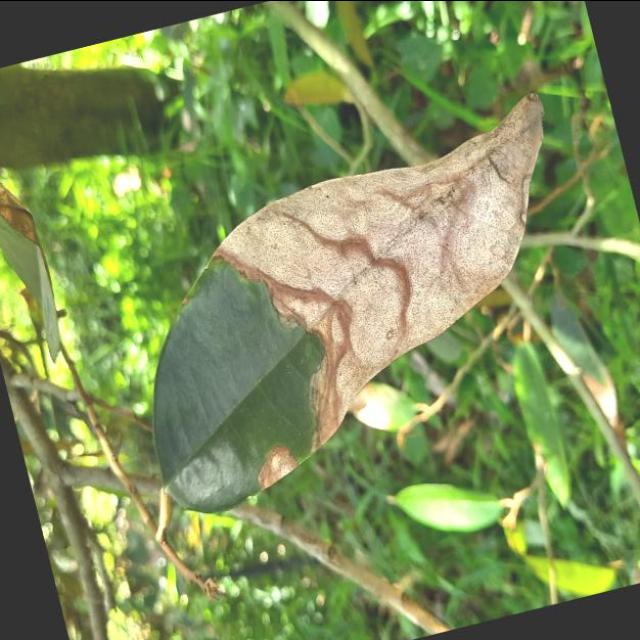Leaf Blight: (81, 78, 624, 531)
